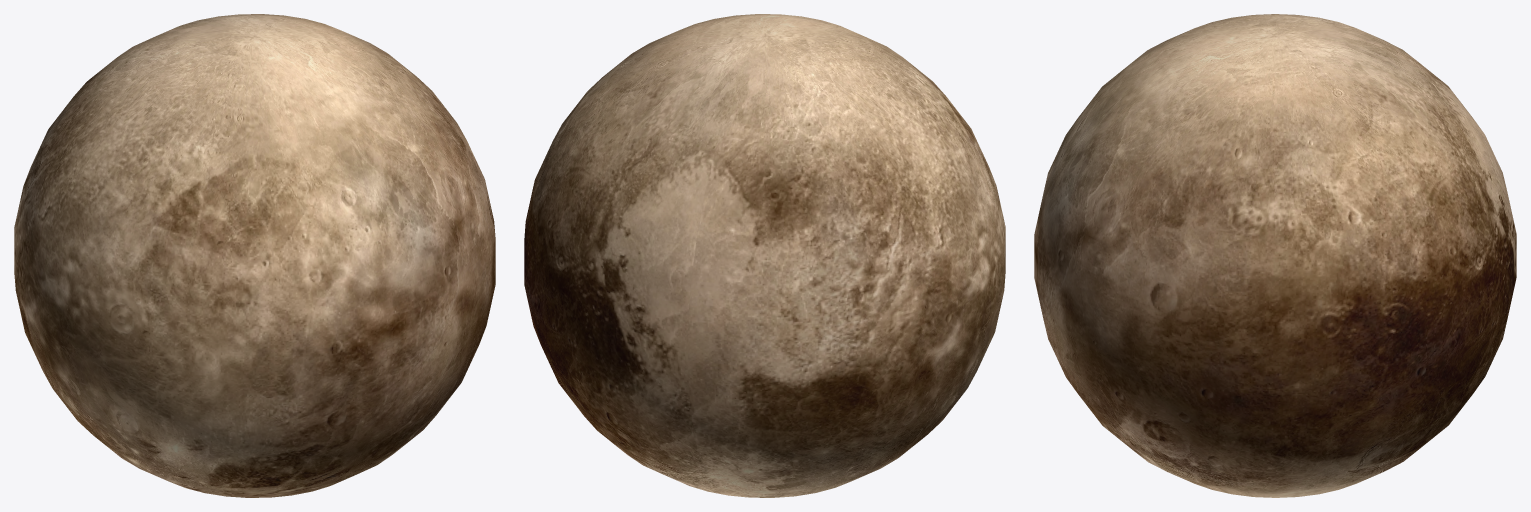
The model's file is pluto.glb.
3 views of the same model, side by side, from view 1: azimuth 30°, elevation 25°; view 2: azimuth 150°, elevation 25°; view 3: azimuth 270°, elevation 25° (orthographic).
Parts seen in each view (by area): view 1: Pluto_low; view 2: Pluto_low; view 3: Pluto_low.
Part boxes in pixels (x1,y1,x2,y2): Pluto_low: [14, 14, 495, 497]; Pluto_low: [524, 14, 1005, 497]; Pluto_low: [1034, 14, 1516, 497].
Size of the model in its own units: 0.6336 by 0.6366 by 0.6336.
1 material, 1 textured.
